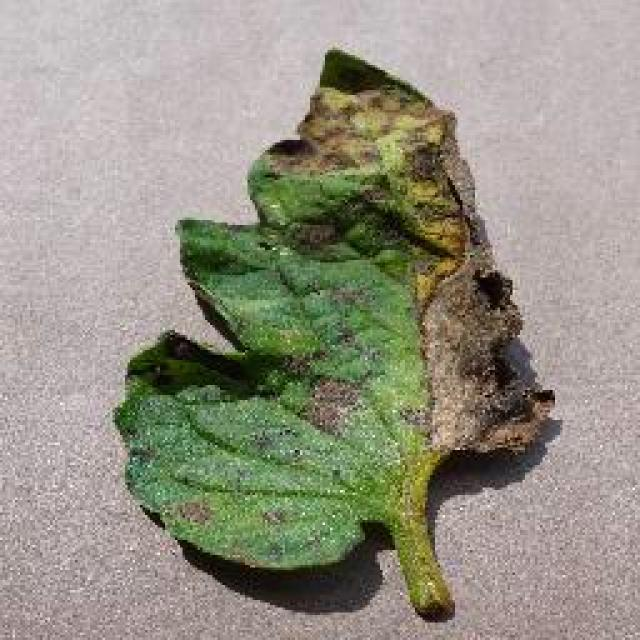Tomato Early blight leaf: (110, 78, 548, 570)
